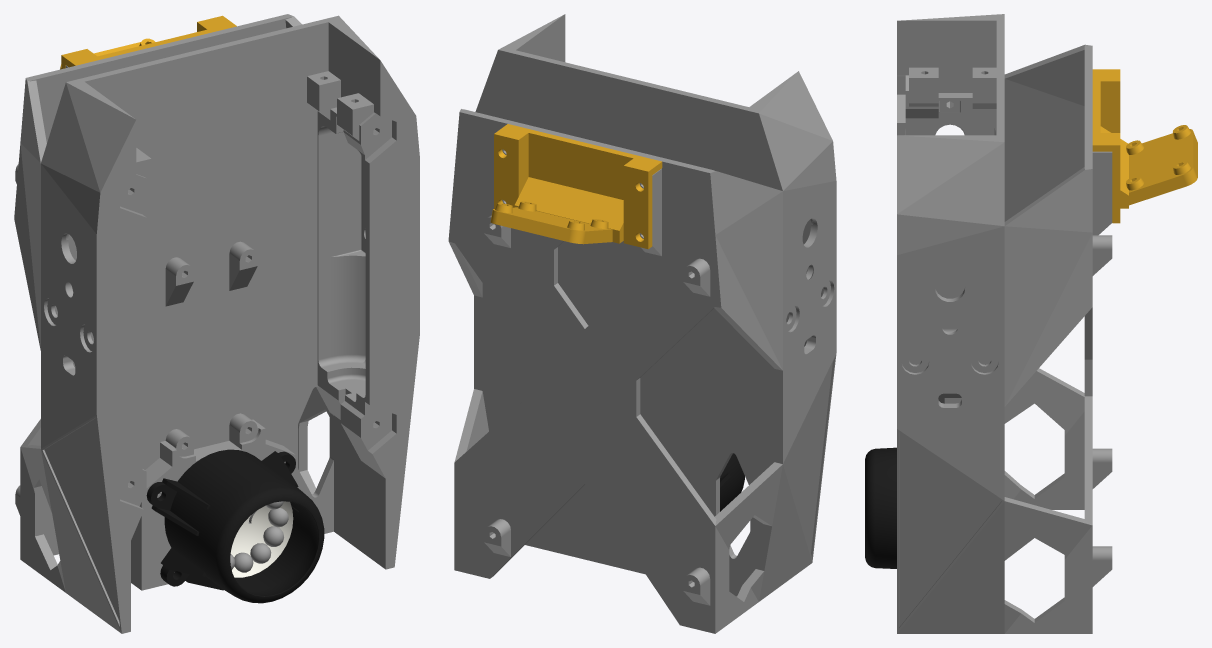
The model's file is jetbot_60mm.fbx.
3 renders of one model, left to right at view 1: azimuth 30°, elevation 25°; view 2: azimuth 150°, elevation 25°; view 3: azimuth 270°, elevation 25°, orthographic. The views are drawn at different scales.
Parts seen in each view (by area): view 1: JetBot-v5 v2; view 2: JetBot-v5 v2; view 3: JetBot-v5 v2.
Boxes of the visible parts, <box> form: JetBot-v5 v2: <box>14,14,419,633</box>; JetBot-v5 v2: <box>448,14,836,633</box>; JetBot-v5 v2: <box>865,14,1197,633</box>.
Size of the model in its own units: 90 by 136 by 83.37.
